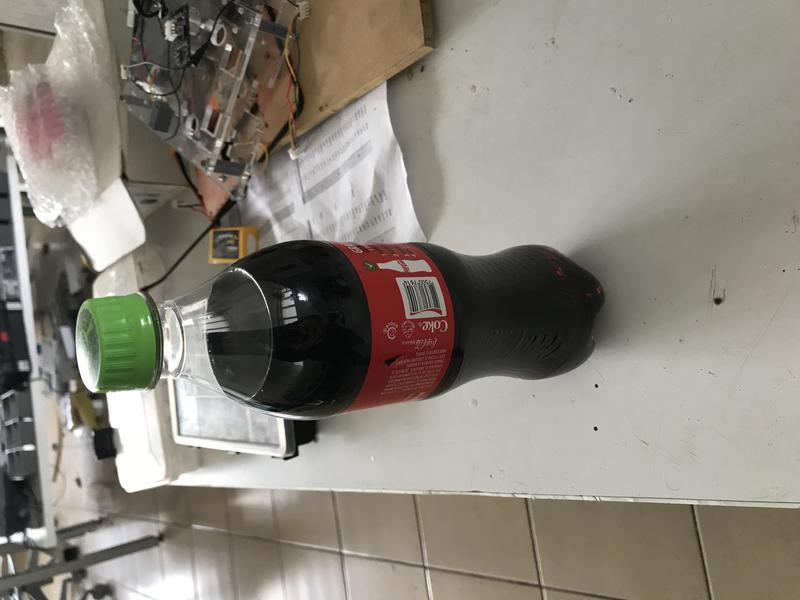coca_cola: (76, 240, 605, 423)
